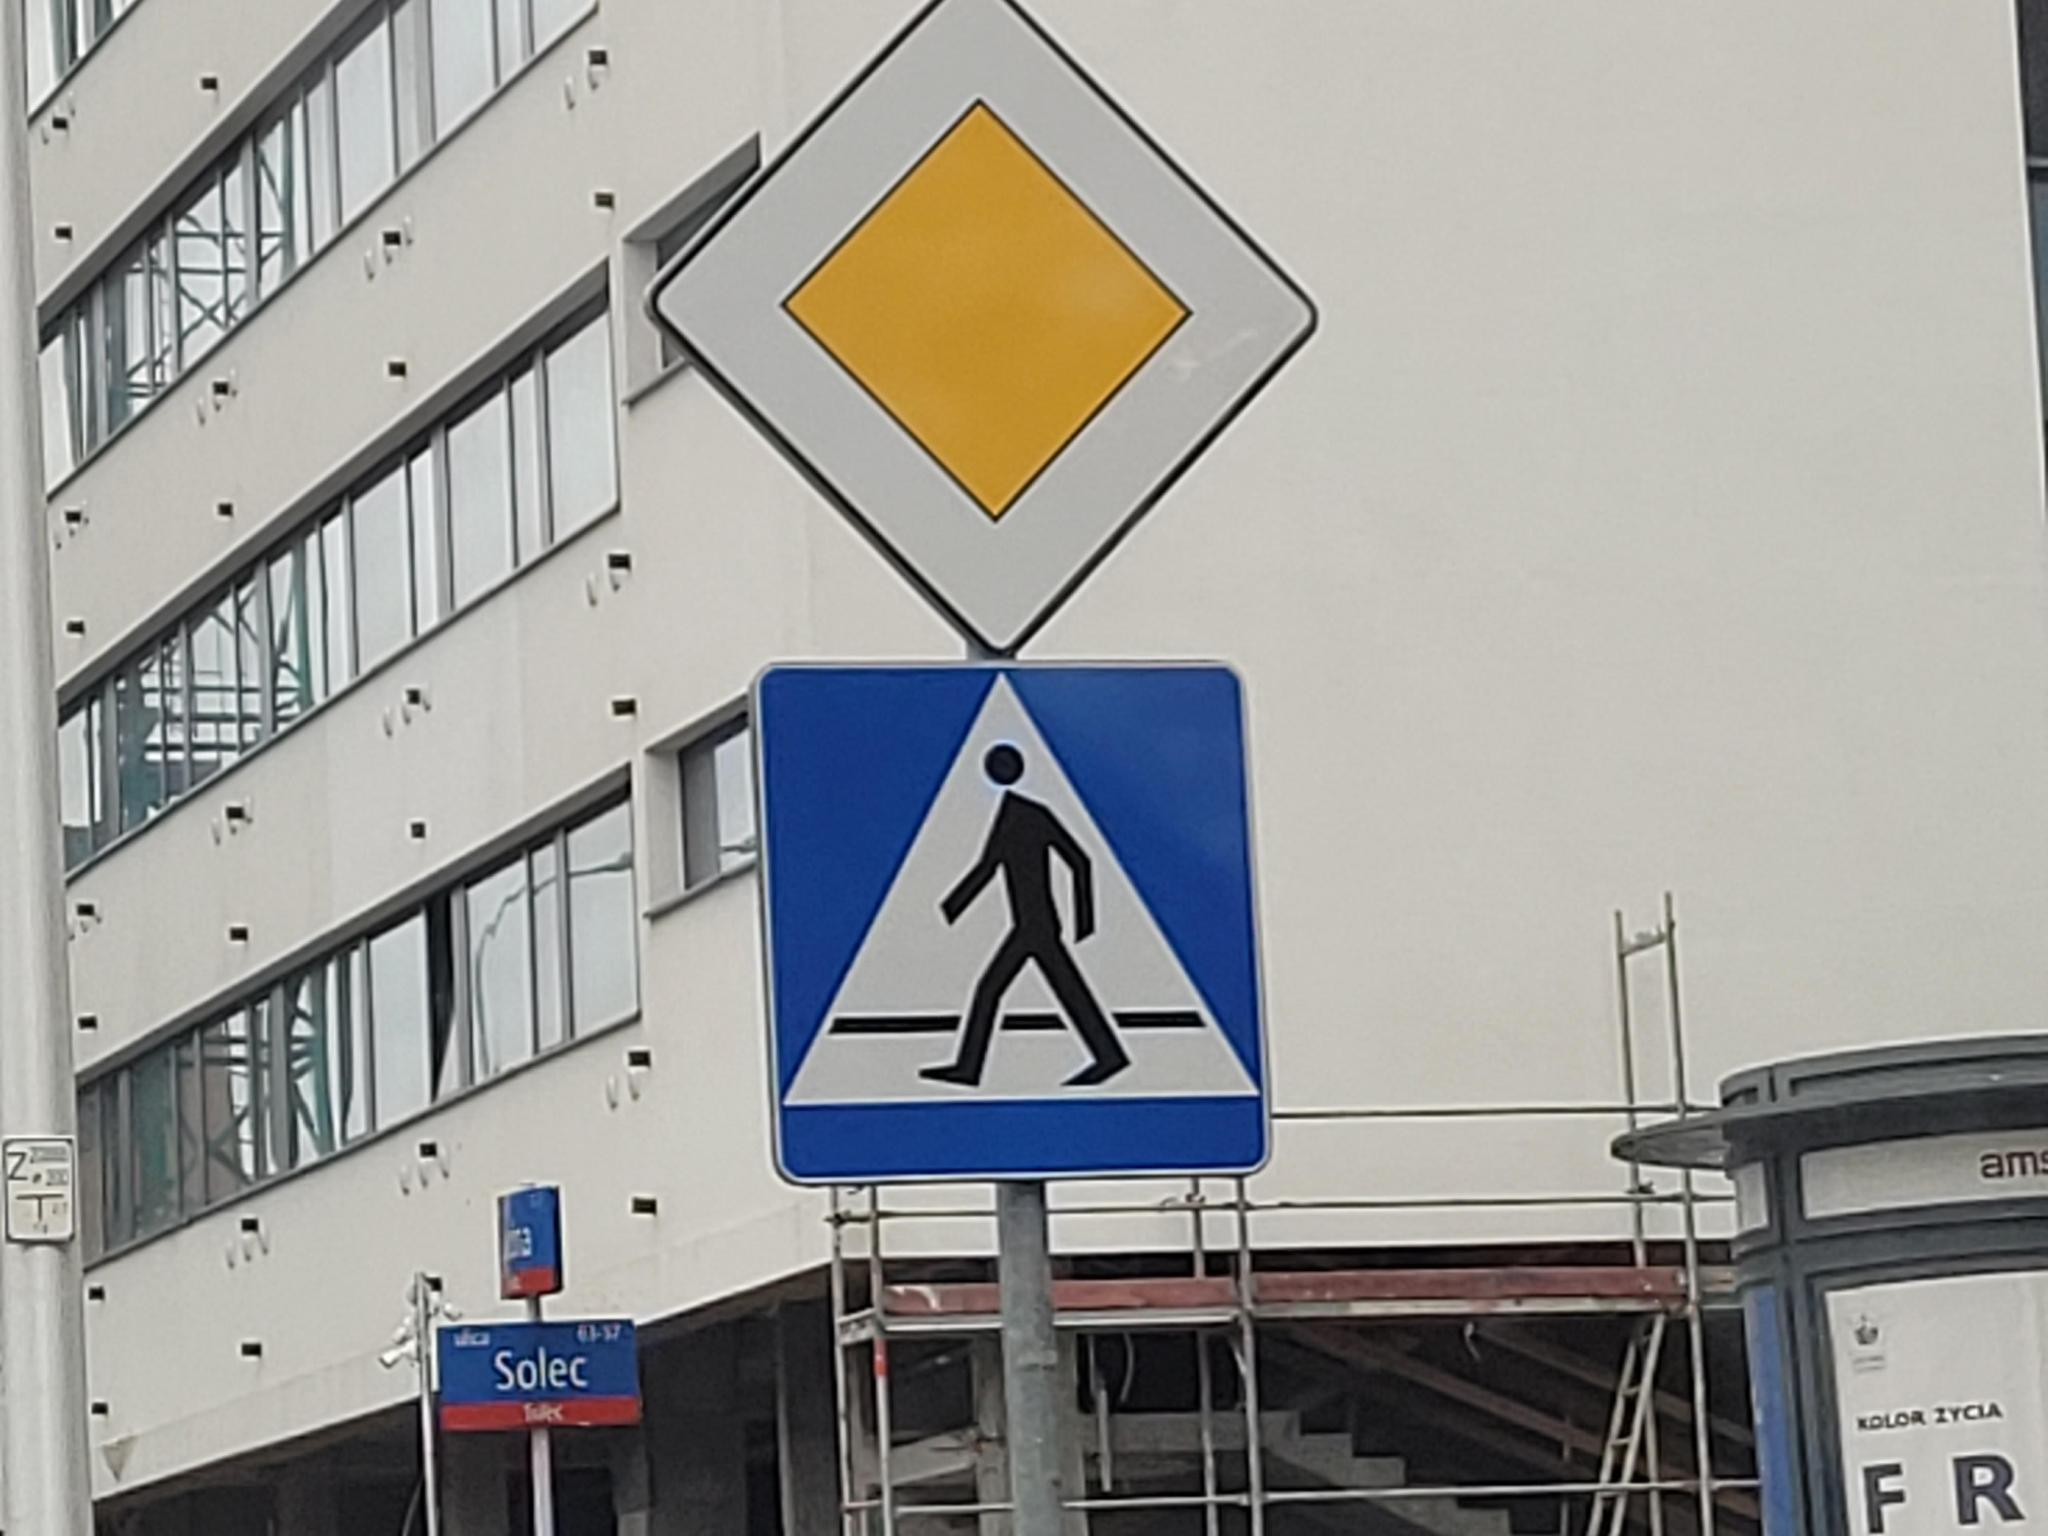information: (648, 0, 1322, 655), (766, 657, 1251, 1175)
